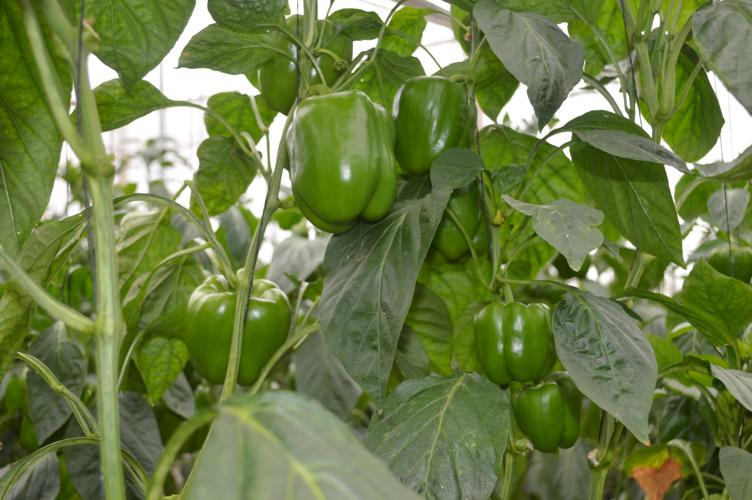BellPepper: (270, 93, 421, 251), (174, 271, 295, 388), (464, 294, 565, 390), (387, 71, 473, 180), (505, 377, 589, 462), (418, 190, 492, 282)
